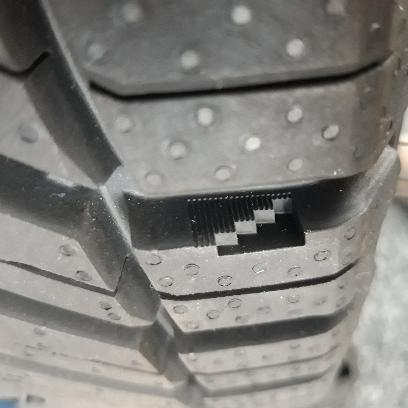temoin:100: (186, 188, 309, 259)
